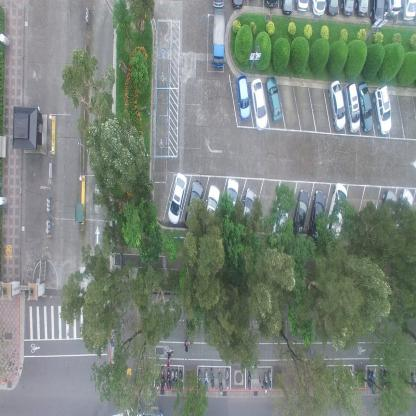car: (325, 181, 347, 243), (271, 192, 293, 249), (377, 188, 397, 244), (395, 187, 414, 243), (167, 172, 187, 224), (372, 83, 392, 135), (249, 77, 268, 131), (327, 78, 346, 130), (221, 176, 239, 230), (184, 179, 203, 230), (342, 82, 361, 133), (307, 189, 325, 242), (356, 80, 374, 132), (239, 187, 257, 237), (264, 76, 283, 123), (203, 184, 221, 231), (212, 8, 225, 71), (292, 188, 309, 236), (235, 74, 251, 120), (369, 0, 386, 29), (384, 0, 401, 20), (400, 0, 415, 22), (310, 0, 327, 19), (134, 405, 163, 415), (326, 0, 340, 19), (355, 0, 369, 18), (341, 0, 355, 17), (280, 0, 294, 16), (295, 0, 309, 15), (231, 0, 243, 11), (263, 0, 278, 8), (212, 0, 224, 8)
